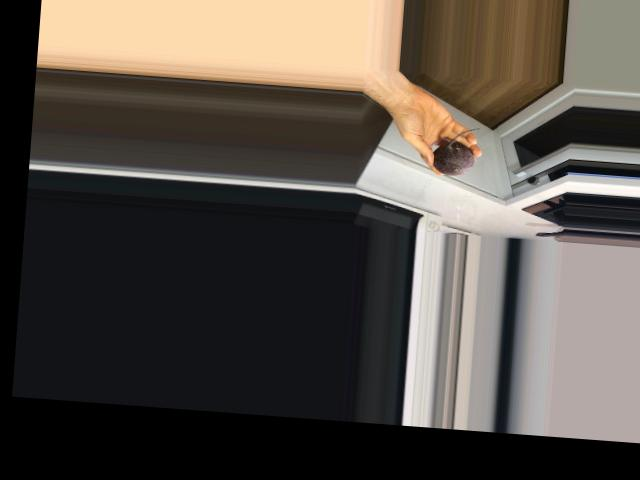beet: (432, 124, 481, 177)
